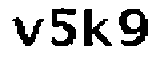5: (49, 5, 78, 51)
9: (116, 6, 150, 49)
k: (81, 6, 112, 48)
v: (7, 15, 44, 47)
